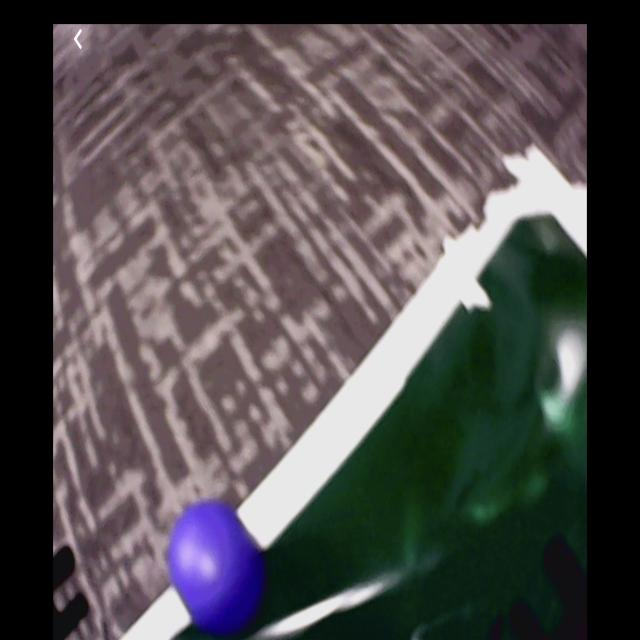ball: (170, 500, 256, 632)
